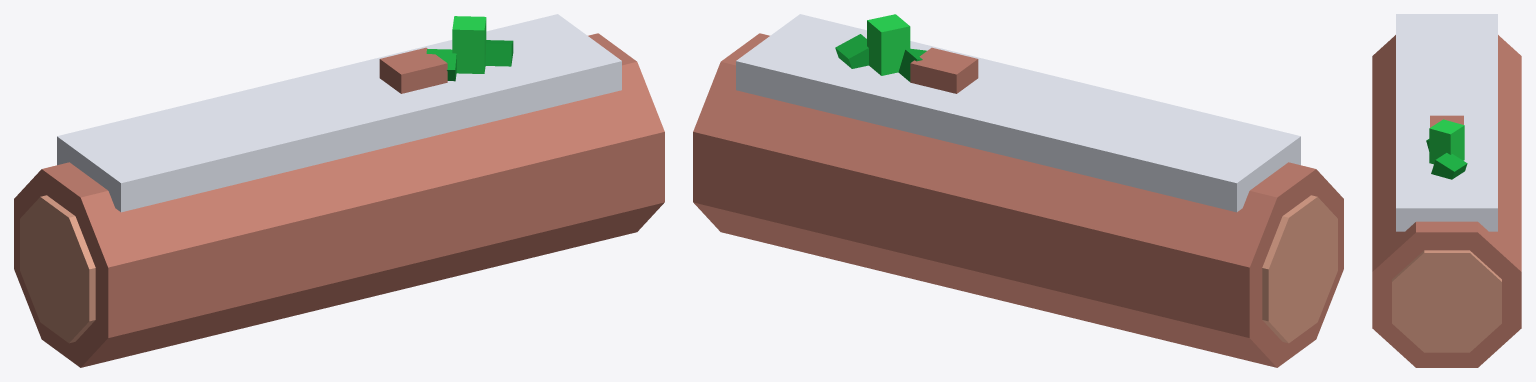
File: SnowLog.fbx
The picture shows the model from 3 angles, left to right: view 1: azimuth 30°, elevation 25°; view 2: azimuth 150°, elevation 25°; view 3: azimuth 270°, elevation 25°; orthographic projection. The views are drawn at different scales.
Parts seen in each view (by area): view 1: Wood.007, Snow.005, WoodLight.004, Grass.011, GrassDark.011; view 2: Wood.007, Snow.005, WoodLight.004, Grass.011, GrassDark.011; view 3: Wood.007, Snow.005, WoodLight.004, Grass.011, GrassDark.011.
Part boxes in pixels (bbox=[...]): Wood.007: bbox=[14, 33, 664, 367]; Snow.005: bbox=[57, 14, 621, 212]; WoodLight.004: bbox=[20, 195, 95, 343]; Grass.011: bbox=[452, 16, 486, 73]; GrassDark.011: bbox=[426, 40, 513, 81]; Wood.007: bbox=[693, 33, 1343, 367]; Snow.005: bbox=[736, 14, 1300, 212]; WoodLight.004: bbox=[1262, 195, 1337, 343]; Grass.011: bbox=[867, 14, 910, 75]; GrassDark.011: bbox=[835, 34, 926, 81]; Wood.007: bbox=[1372, 35, 1521, 367]; Snow.005: bbox=[1396, 14, 1497, 231]; WoodLight.004: bbox=[1392, 250, 1501, 352]; Grass.011: bbox=[1429, 119, 1464, 164]; GrassDark.011: bbox=[1426, 139, 1467, 179].
Bounding box in the file's own units: 6.14 × 2.38 × 1.76.
